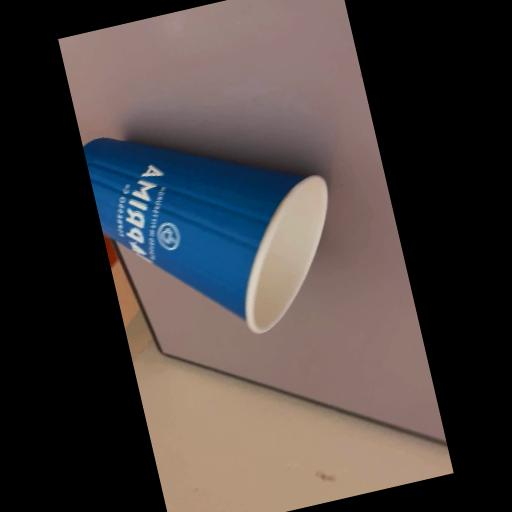lp_paper_cup: (83, 92, 354, 361)
